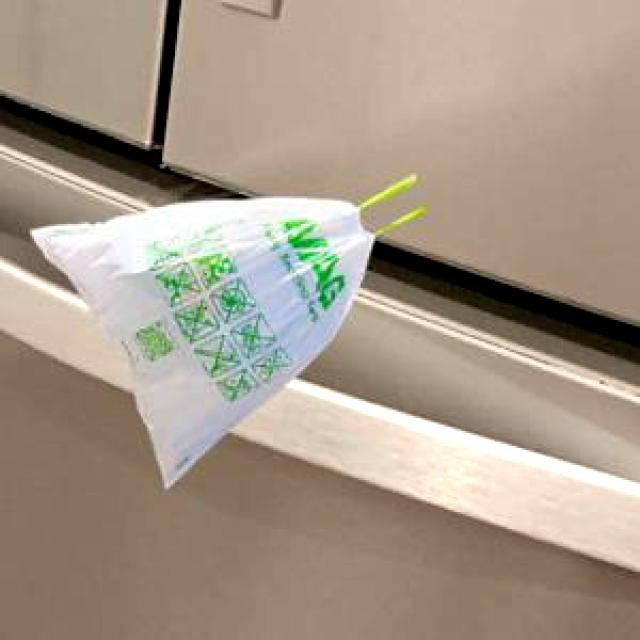Plastic_Bag: (29, 172, 424, 486)
